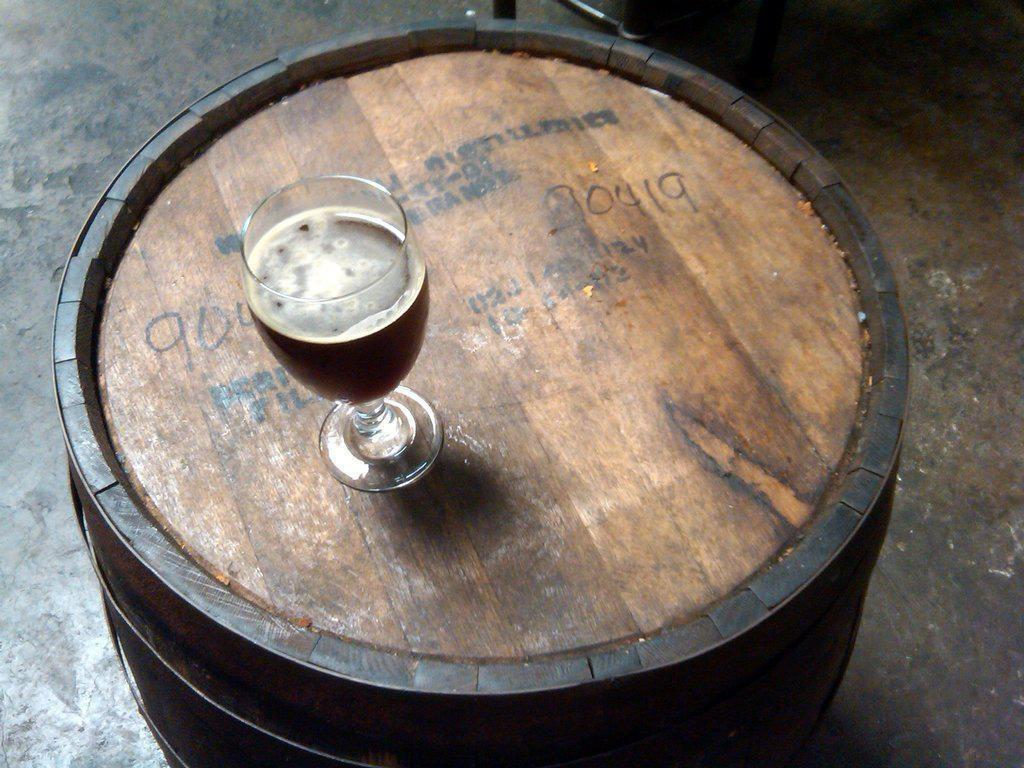glass-wine: (237, 172, 444, 492)
